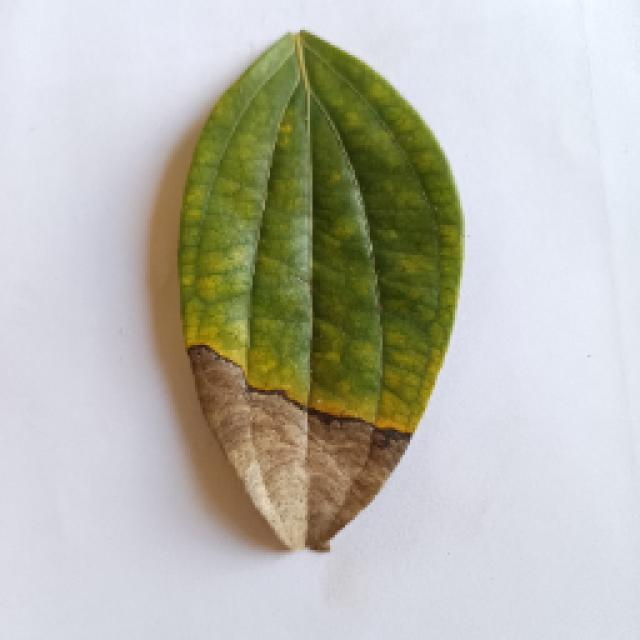footrot: (172, 28, 468, 552)
